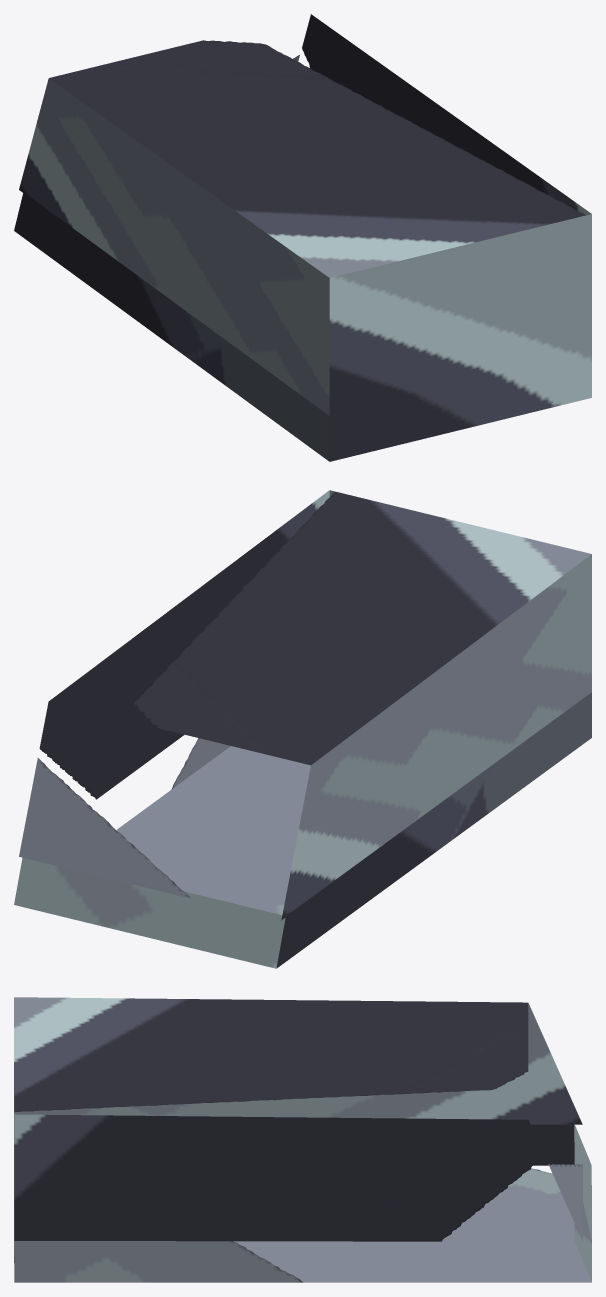
Rendered from ss8_carport_ad.obj.
3 renders of one model, top to bottom at view 1: azimuth 30°, elevation 25°; view 2: azimuth 150°, elevation 25°; view 3: azimuth 270°, elevation 25°, orthographic. The views are drawn at different scales.
Visible parts, largest first — view 1: cube_selection_selection_selection_selection_selection_selection; view 2: cube_selection_selection_selection_selection_selection_selection; view 3: cube_selection_selection_selection_selection_selection_selection.
Part boxes in pixels (bbox=[...]): cube_selection_selection_selection_selection_selection_selection: bbox=[14, 14, 591, 461]; cube_selection_selection_selection_selection_selection_selection: bbox=[14, 490, 591, 968]; cube_selection_selection_selection_selection_selection_selection: bbox=[14, 997, 591, 1282].
Bounding box in the file's own units: 0.7502 × 0.5022 × 1.56.
